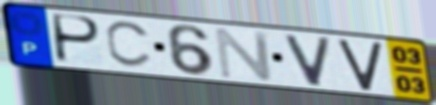6: (165, 23, 217, 78)
C: (103, 20, 154, 70)
N: (212, 26, 276, 82)
P: (52, 12, 104, 66)
V: (281, 33, 333, 88), (335, 39, 385, 93)
